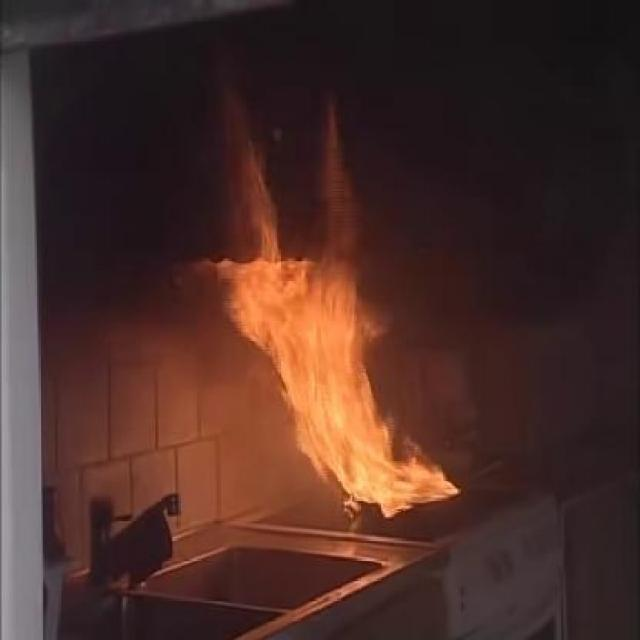fire: (223, 269, 454, 529)
smoke: (195, 54, 438, 178), (78, 211, 198, 372), (195, 404, 282, 504), (401, 338, 490, 418)
